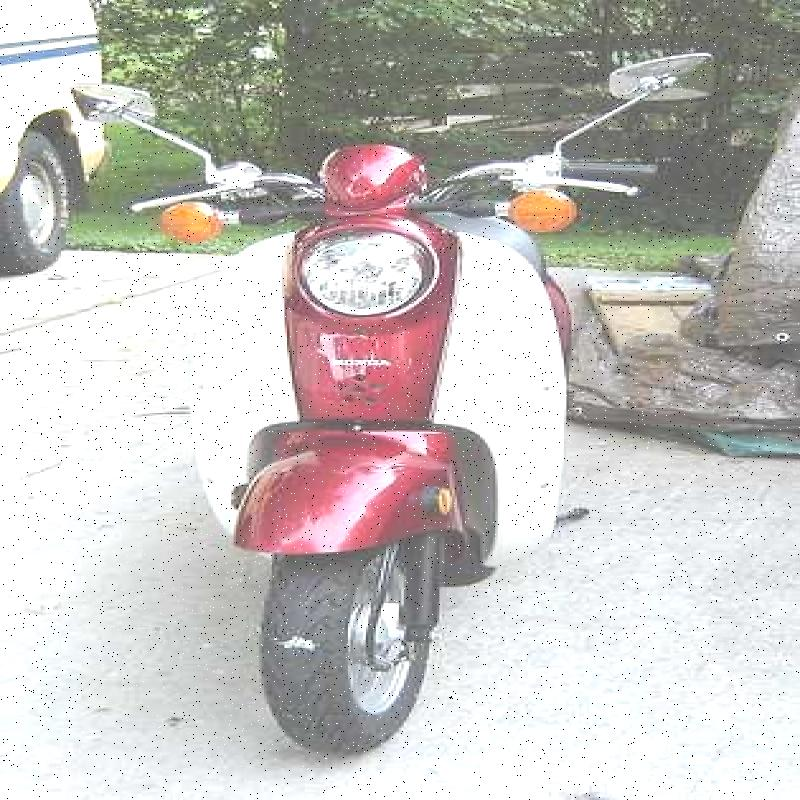bike: (125, 64, 632, 762)
